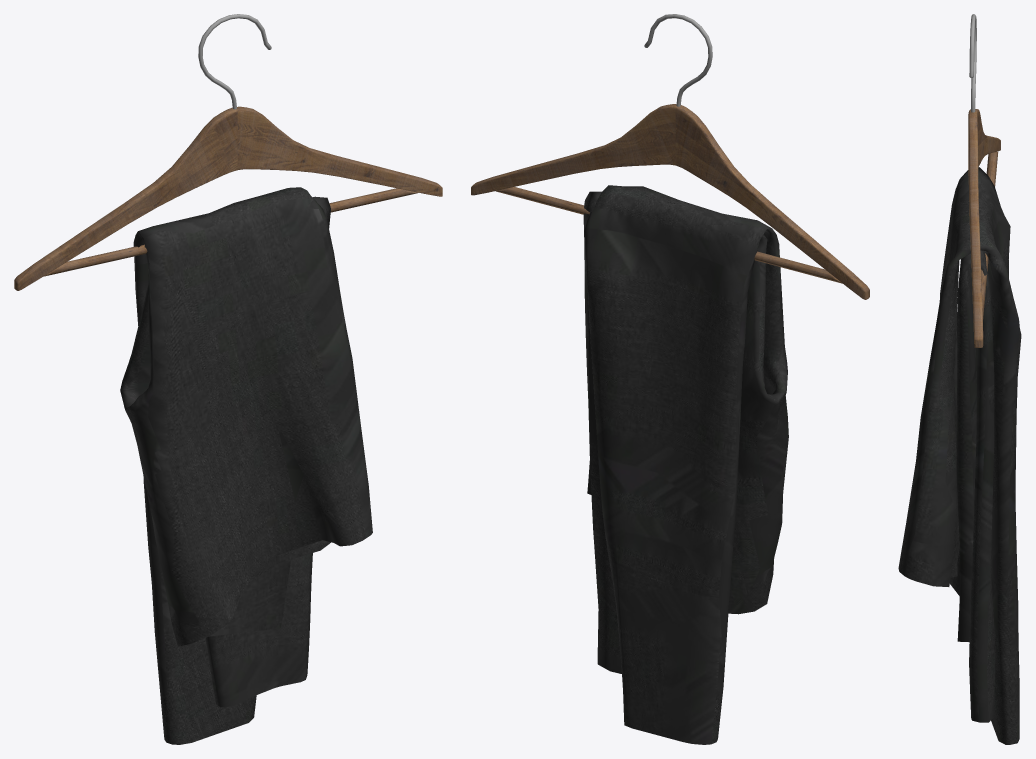
The model's file is Plants600.glb.
3 views of the same model, side by side, from view 1: azimuth 30°, elevation 25°; view 2: azimuth 150°, elevation 25°; view 3: azimuth 270°, elevation 25° (orthographic). The views are drawn at different scales.
Visible parts, largest first — view 1: Plants600_StaticMeshComponent0, BP_Hangers_for_clothes318_StaticMeshComponent0; view 2: Plants600_StaticMeshComponent0, BP_Hangers_for_clothes318_StaticMeshComponent0; view 3: Plants600_StaticMeshComponent0, BP_Hangers_for_clothes318_StaticMeshComponent0.
Boxes of the visible parts, x1,y1,x2,y2 form: Plants600_StaticMeshComponent0: (120, 187, 372, 744); BP_Hangers_for_clothes318_StaticMeshComponent0: (14, 14, 442, 290); Plants600_StaticMeshComponent0: (583, 185, 788, 744); BP_Hangers_for_clothes318_StaticMeshComponent0: (471, 14, 869, 299); Plants600_StaticMeshComponent0: (898, 167, 1021, 744); BP_Hangers_for_clothes318_StaticMeshComponent0: (968, 14, 1000, 347).
Bounding box in the file's own units: 0.437 × 0.7277 × 0.1143.
3 materials, 2 textured.
